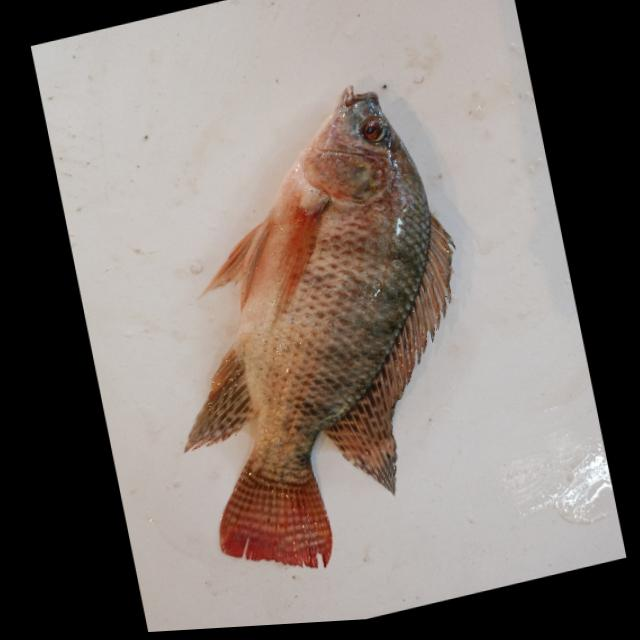Tilapia: (116, 60, 508, 596)
